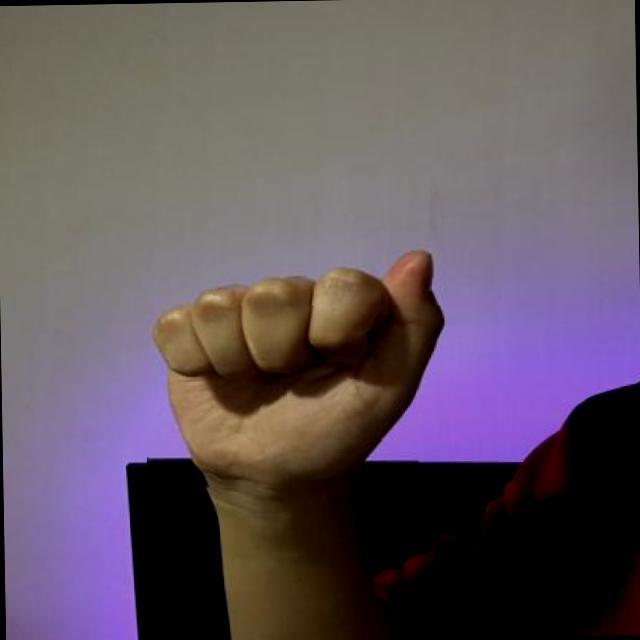A: (141, 237, 452, 492)
